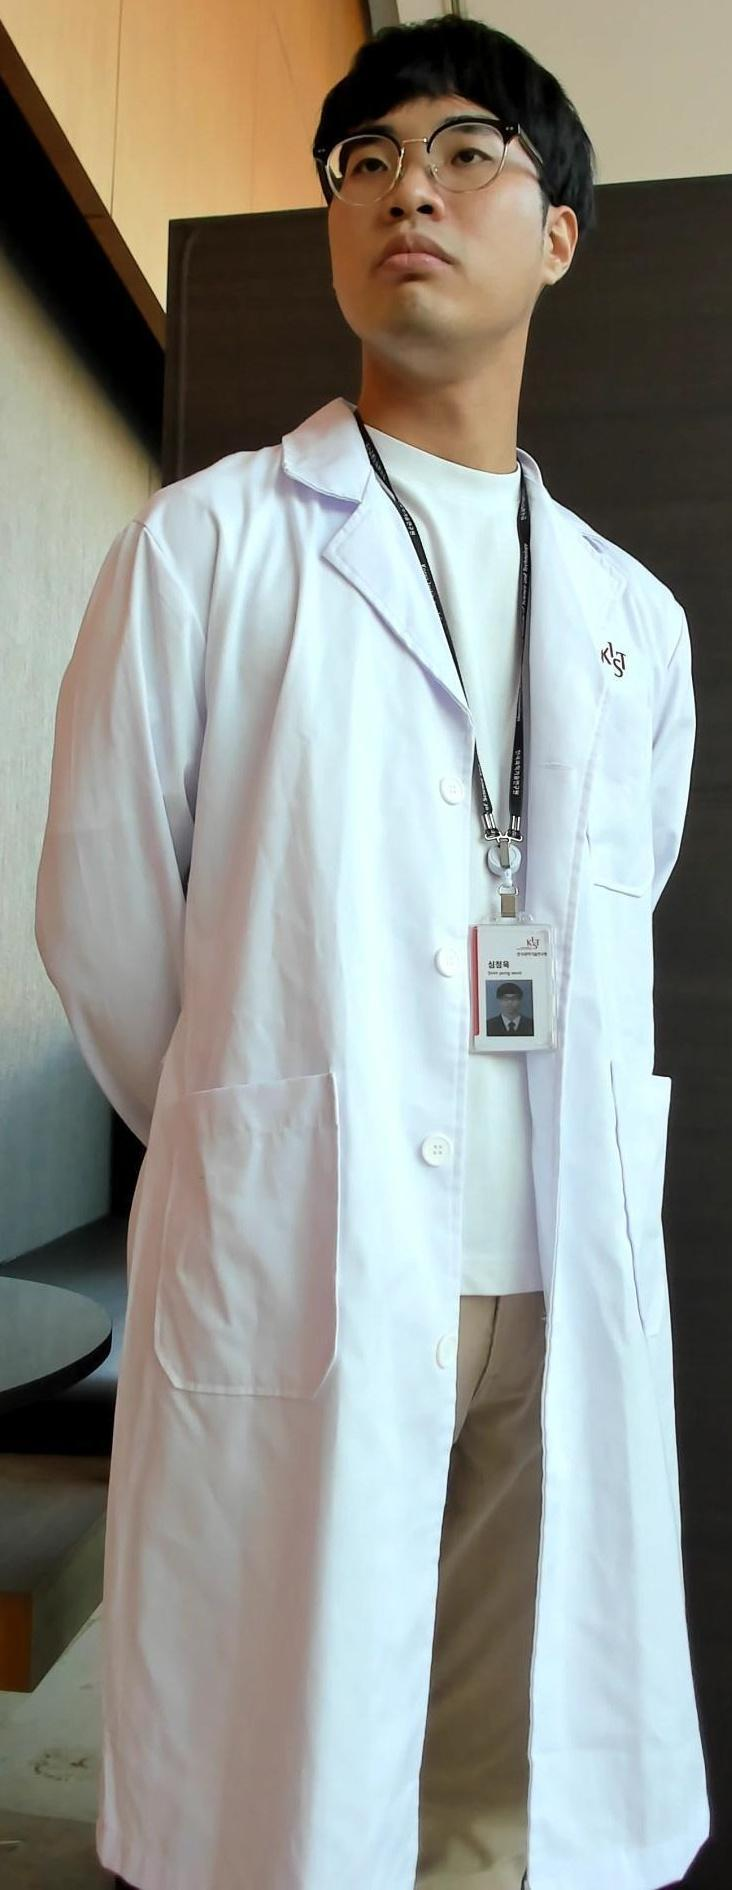lab_coat: (28, 438, 732, 1890)
